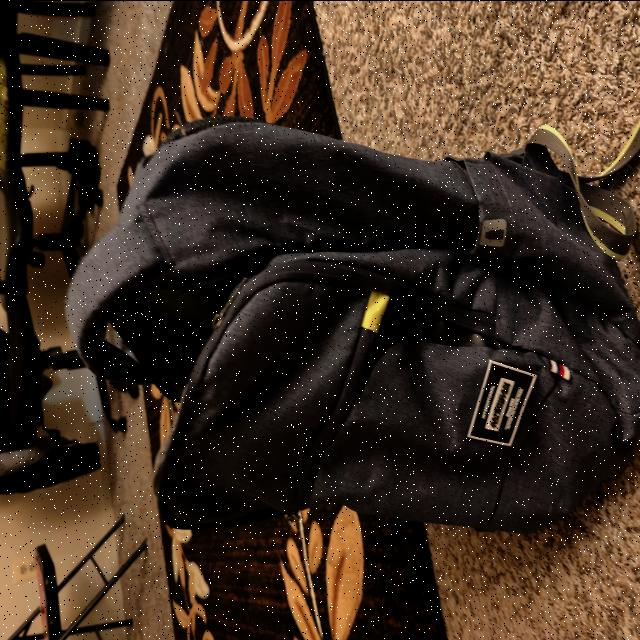bag: (75, 154, 640, 522)
